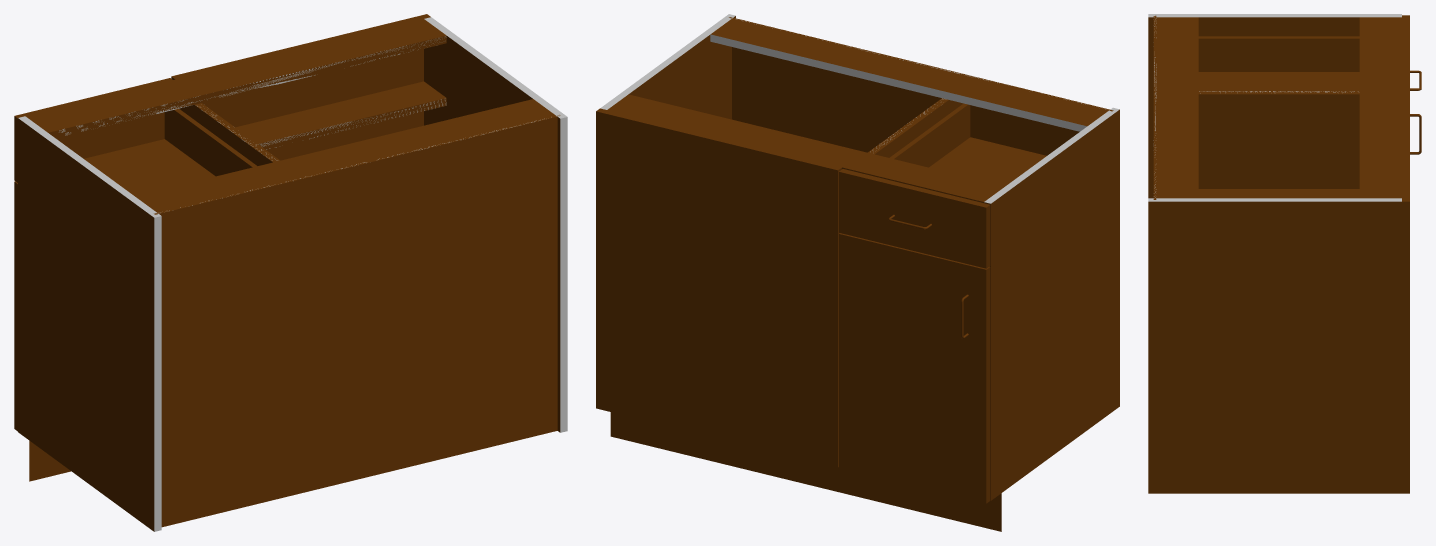
3 views of the same model, side by side, from view 1: azimuth 30°, elevation 25°; view 2: azimuth 150°, elevation 25°; view 3: azimuth 270°, elevation 25° (orthographic). The views are drawn at different scales.
Visible parts, largest first — view 1: mesh22_mesh22-geometry, mesh1_mesh1-geometry, mesh17_mesh17-geometry, mesh46_mesh46-geometry, mesh25_mesh25-geometry, mesh8_mesh8-geometry, mesh78_mesh78-geometry, mesh64_mesh64-geometry, mesh62_mesh62-geometry, mesh66_mesh66-geometry, mesh5_mesh5-geometry, mesh11_mesh11-geometry (+5 smaller); view 2: mesh46_mesh46-geometry, mesh1_mesh1-geometry, mesh35_mesh35-geometry, mesh22_mesh22-geometry, mesh21_mesh21-geometry, mesh51_mesh51-geometry, mesh25_mesh25-geometry, mesh17_mesh17-geometry, mesh8_mesh8-geometry, mesh64_mesh64-geometry, mesh73_mesh73-geometry, mesh28_mesh28-geometry (+6 smaller); view 3: mesh7_mesh7-geometry, mesh2_mesh2-geometry, mesh82_mesh82-geometry, mesh25_mesh25-geometry, mesh17_mesh17-geometry, mesh71_mesh71-geometry, mesh46_mesh46-geometry, mesh64_mesh64-geometry, mesh30_mesh30-geometry, mesh4_mesh4-geometry, mesh10_mesh10-geometry, mesh22_mesh22-geometry (+1 smaller).
Boxes of the visible parts, x1=… form: mesh22_mesh22-geometry: x1=154, y1=115, x2=560, y2=527; mesh1_mesh1-geometry: x1=18, y1=118, x2=154, y2=531; mesh17_mesh17-geometry: x1=25, y1=19, x2=446, y2=138; mesh46_mesh46-geometry: x1=171, y1=14, x2=430, y2=160; mesh25_mesh25-geometry: x1=135, y1=99, x2=555, y2=212; mesh8_mesh8-geometry: x1=424, y1=36, x2=560, y2=432; mesh78_mesh78-geometry: x1=235, y1=81, x2=446, y2=149; mesh64_mesh64-geometry: x1=84, y1=139, x2=215, y2=195; mesh62_mesh62-geometry: x1=164, y1=108, x2=257, y2=176; mesh66_mesh66-geometry: x1=56, y1=112, x2=164, y2=158; mesh5_mesh5-geometry: x1=154, y1=216, x2=161, y2=531; mesh11_mesh11-geometry: x1=560, y1=117, x2=567, y2=432; mesh46_mesh46-geometry: x1=596, y1=108, x2=841, y2=467; mesh1_mesh1-geometry: x1=991, y1=109, x2=1119, y2=500; mesh35_mesh35-geometry: x1=839, y1=234, x2=986, y2=503; mesh22_mesh22-geometry: x1=729, y1=17, x2=1113, y2=152; mesh21_mesh21-geometry: x1=610, y1=412, x2=1001, y2=531; mesh51_mesh51-geometry: x1=839, y1=172, x2=986, y2=268; mesh25_mesh25-geometry: x1=711, y1=18, x2=1108, y2=126; mesh17_mesh17-geometry: x1=607, y1=94, x2=1004, y2=201; mesh8_mesh8-geometry: x1=629, y1=16, x2=735, y2=119; mesh64_mesh64-geometry: x1=929, y1=137, x2=1046, y2=186; mesh73_mesh73-geometry: x1=970, y1=105, x2=1079, y2=155; mesh28_mesh28-geometry: x1=710, y1=34, x2=1086, y2=131; mesh7_mesh7-geometry: x1=1148, y1=201, x2=1401, y2=493; mesh2_mesh2-geometry: x1=1148, y1=17, x2=1359, y2=198; mesh82_mesh82-geometry: x1=1198, y1=91, x2=1359, y2=145; mesh25_mesh25-geometry: x1=1156, y1=17, x2=1198, y2=198; mesh17_mesh17-geometry: x1=1359, y1=17, x2=1401, y2=198; mesh71_mesh71-geometry: x1=1198, y1=36, x2=1359, y2=71; mesh46_mesh46-geometry: x1=1402, y1=85, x2=1409, y2=493; mesh64_mesh64-geometry: x1=1198, y1=72, x2=1359, y2=90; mesh30_mesh30-geometry: x1=1198, y1=189, x2=1359, y2=198; mesh4_mesh4-geometry: x1=1148, y1=14, x2=1401, y2=17; mesh10_mesh10-geometry: x1=1148, y1=198, x2=1401, y2=201; mesh22_mesh22-geometry: x1=1153, y1=15, x2=1156, y2=199.
Size of the model in its own units: 0.6978 by 0.5732 by 0.4296.
